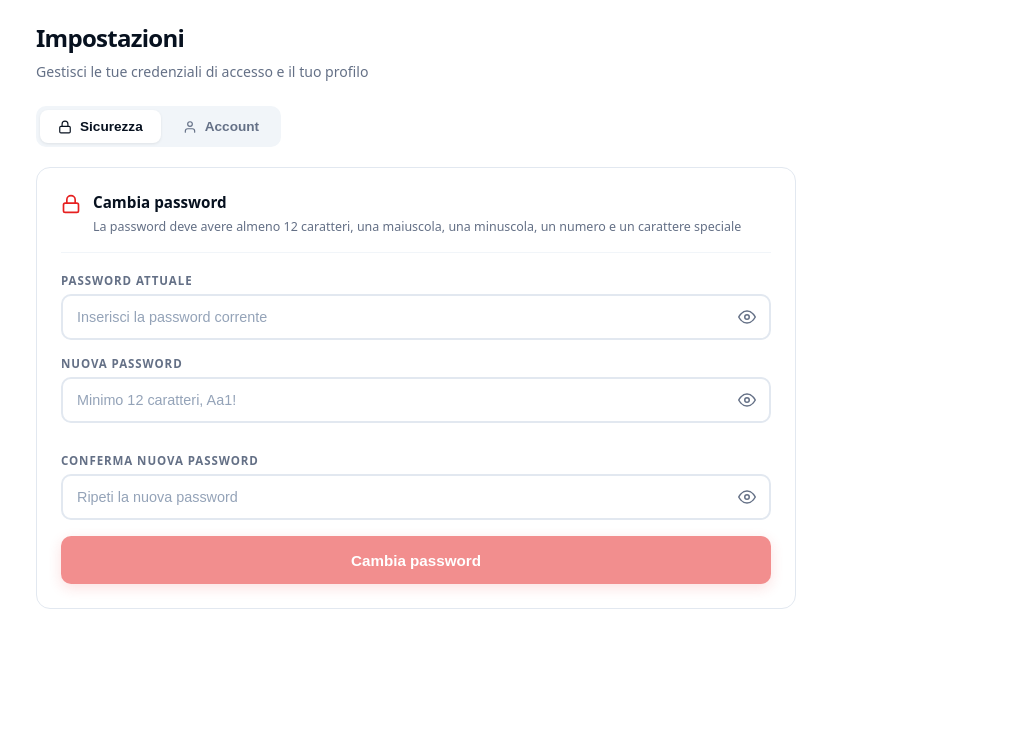
Test: SettingsPage, "Il mio account" tier section (Phase 5) › free user: shows tier="Free" and the redeem form
Note: Switch to account tab
Click the tab "Account": (221, 126) x1=165 y1=110 x2=277 y2=143
(page scrolled)
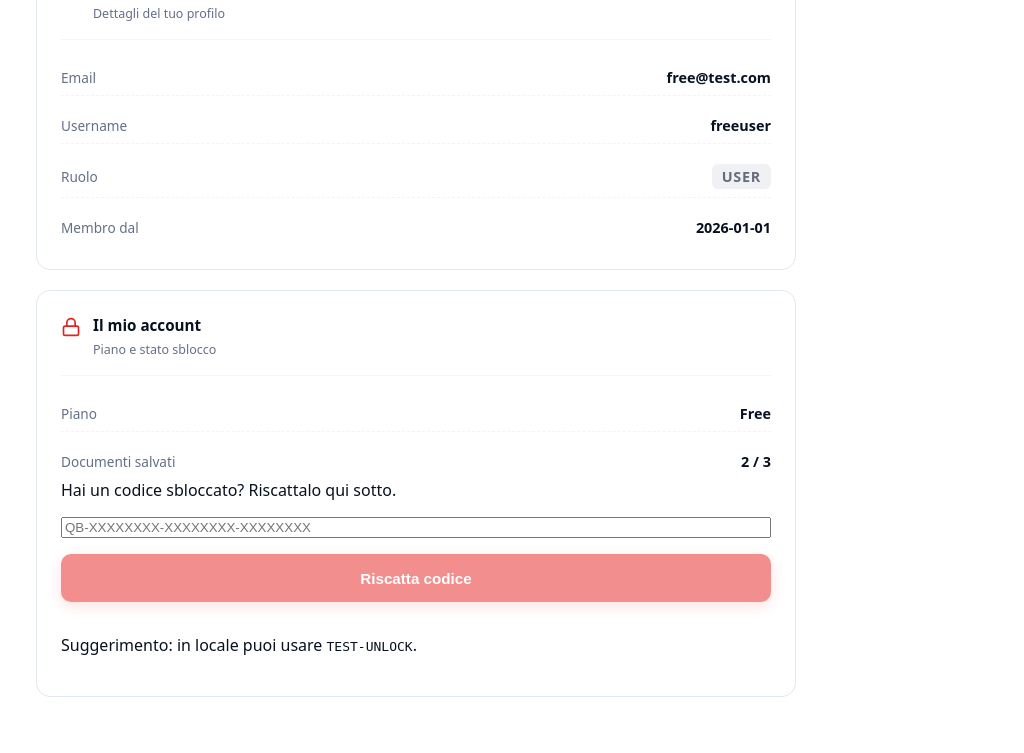
Check: the text with test id "settings-tier-value" reads "Free", box x1=740 y1=404 x2=771 y2=423
Check: the text with test id "settings-doc-count" reads "2 / 3", box x1=741 y1=452 x2=771 y2=471
Check: the form with test id "settings-redeem-form" is shown, box x1=61 y1=479 x2=771 y2=672
